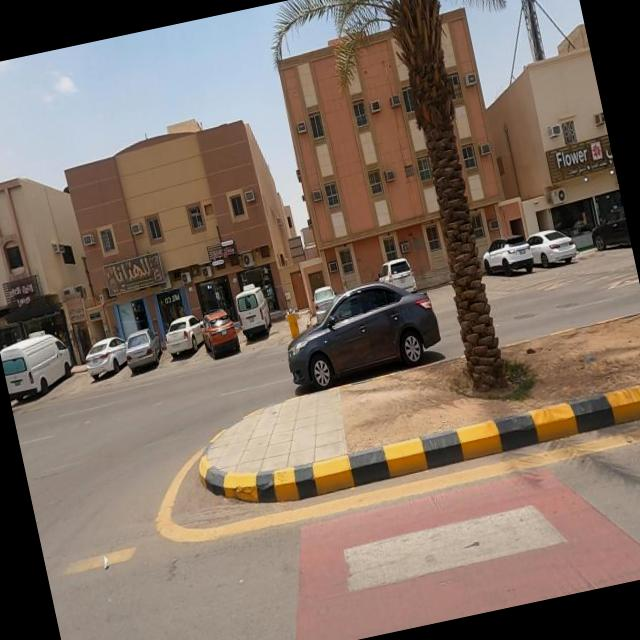debris: (256, 264, 323, 348), (86, 529, 128, 589)
